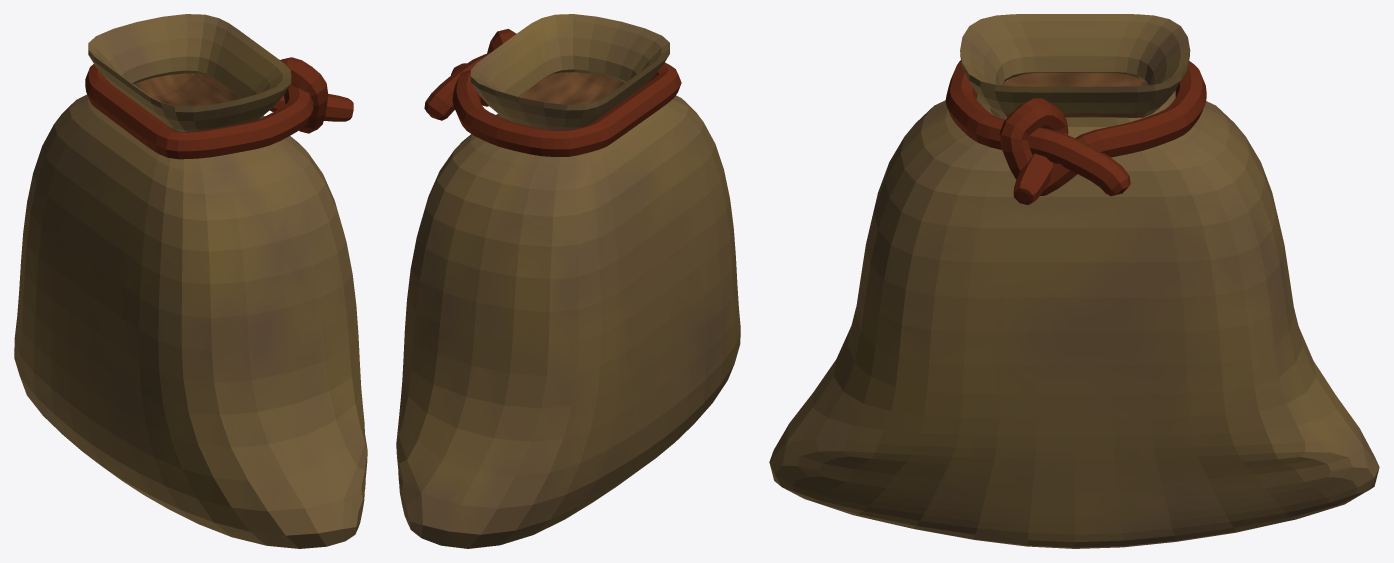
File: gnojivo.fbx
3 renders of one model, left to right at view 1: azimuth 30°, elevation 25°; view 2: azimuth 150°, elevation 25°; view 3: azimuth 270°, elevation 25°, orthographic. The views are drawn at different scales.
Visible parts, largest first — view 1: Cube; view 2: Cube; view 3: Cube.
Boxes of the visible parts, box(x1,y1,x2,y2) form: Cube: box(14, 14, 367, 548); Cube: box(396, 14, 740, 548); Cube: box(769, 14, 1379, 548).
Bounding box in the file's own units: 138 × 228 × 273.
Materials: 3 (2 with a texture image).
